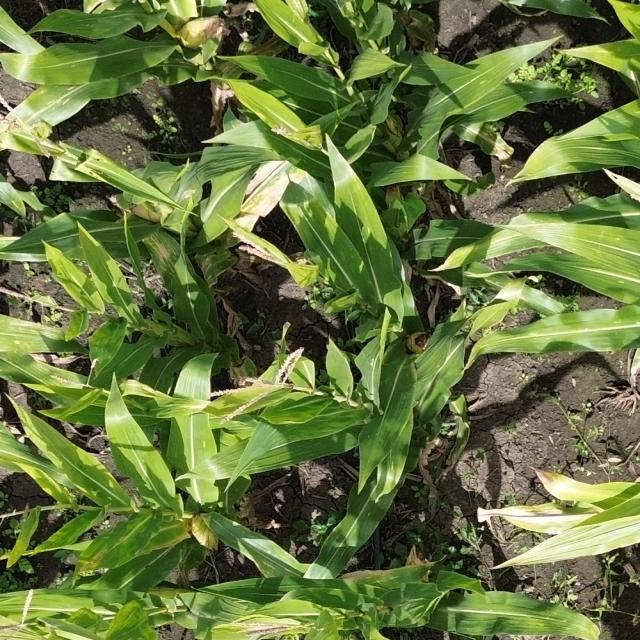gray-leaf-spot: (30, 62, 130, 144)
northern-leaf-blight: (38, 504, 168, 586)
southern-leaf-blight: (531, 214, 640, 309), (334, 220, 438, 318), (6, 295, 87, 408)
